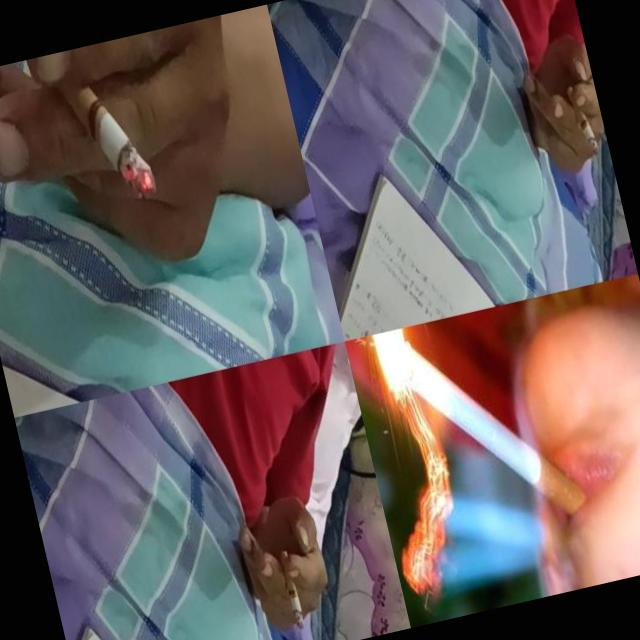cigarette: (406, 326, 593, 552), (39, 38, 160, 214), (564, 82, 600, 158), (278, 548, 306, 631)
